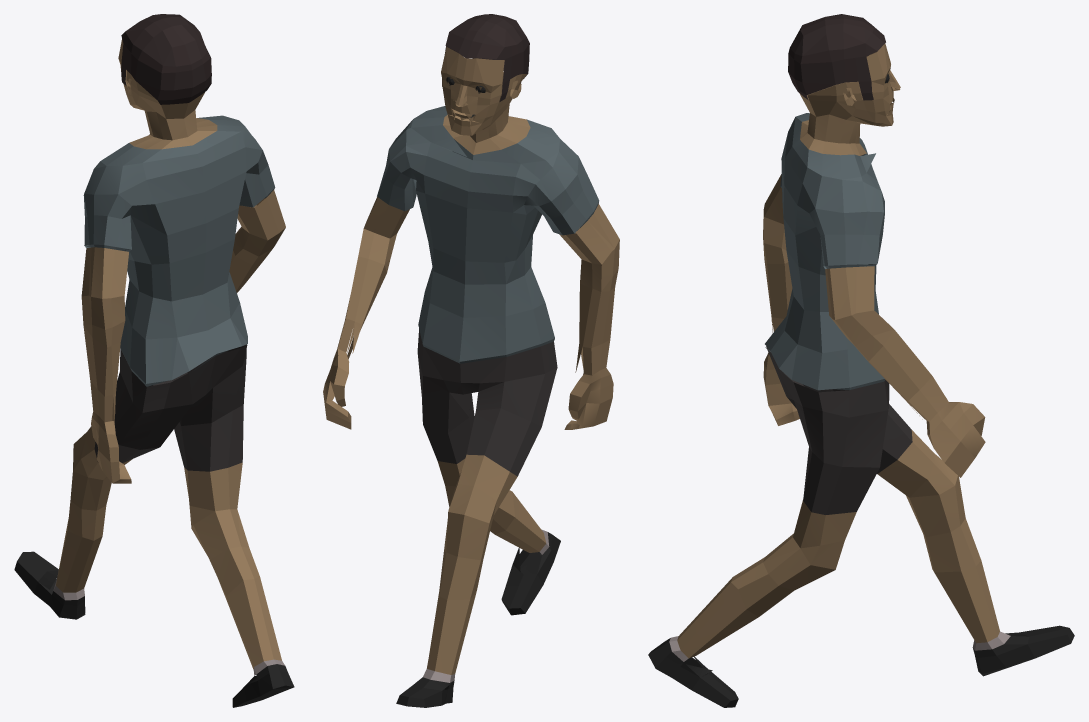
File: person_3_w1.fbx
3 renders of one model, left to right at view 1: azimuth 30°, elevation 25°; view 2: azimuth 150°, elevation 25°; view 3: azimuth 270°, elevation 25°, orthographic. The views are drawn at different scales.
Parts seen in each view (by area): view 1: BaseHuman; view 2: BaseHuman; view 3: BaseHuman.
Part boxes in pixels (x1,y1,x2,y2): BaseHuman: (14,14,294,707); BaseHuman: (323,14,619,707); BaseHuman: (648,14,1074,707).
Size of the model in its own units: 0.3531 by 1 by 0.573.
